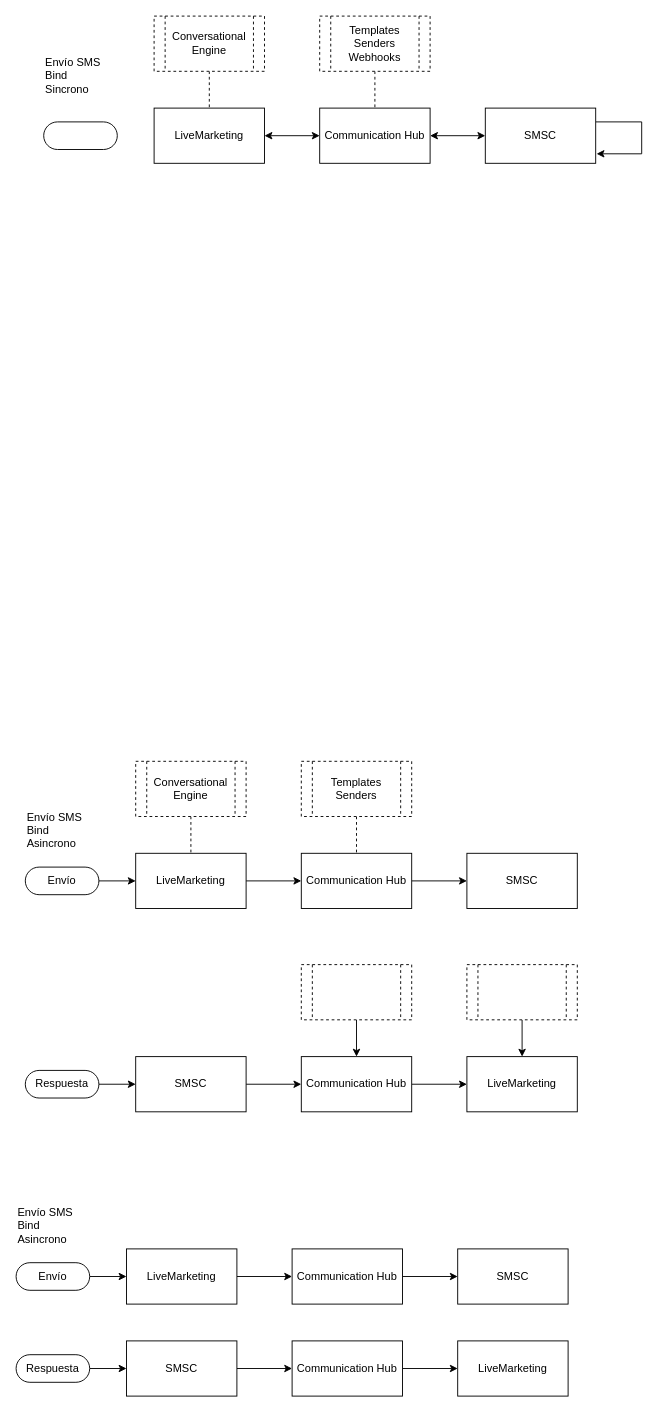
Image size: 665x1412. Some labels were removed from this diagram. The shapes that lost their labels are listed below. From the top down, each one's centre as x and y in pixels, then its label:
(x=80, y=135): Envio Respuesta
(x=356, y=992): Webhooks
(x=521, y=992): Webhook
